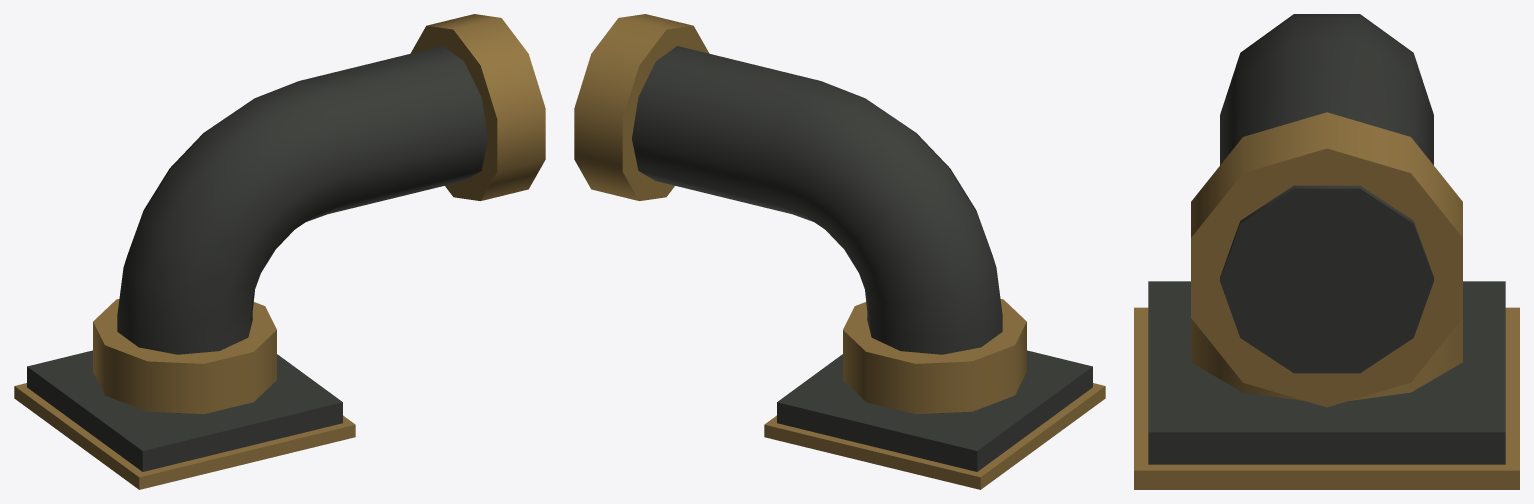
Rendered from pipe_bend.glb.
3 views of the same model, side by side, from view 1: azimuth 30°, elevation 25°; view 2: azimuth 150°, elevation 25°; view 3: azimuth 270°, elevation 25° (orthographic). The views are drawn at different scales.
Parts seen in each view (by area): view 1: pipe_bend; view 2: pipe_bend; view 3: pipe_bend.
Boxes of the visible parts, x1,y1,x2,y2 form: pipe_bend: (14, 14, 545, 489); pipe_bend: (574, 14, 1105, 489); pipe_bend: (1134, 14, 1519, 489).
Size of the model in its own units: 1.07 by 0.77 by 0.54.
